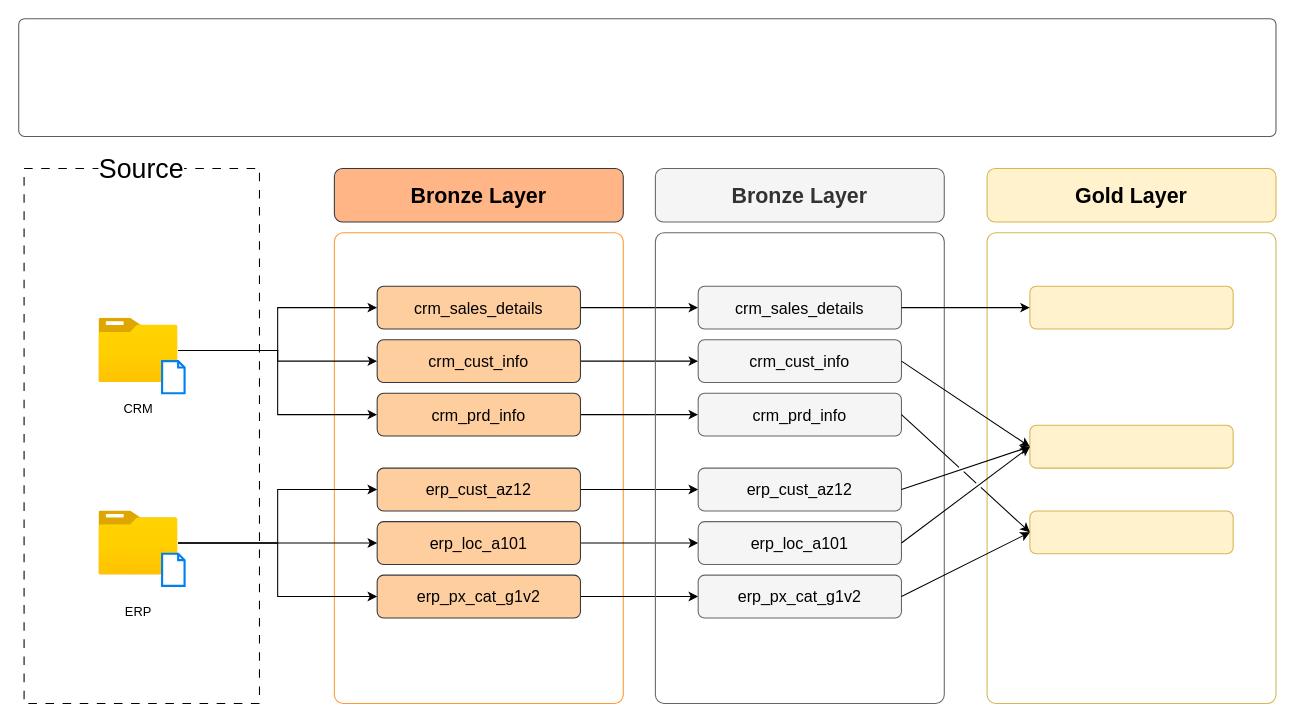
The diagram is 1295 pixels wide and 722 high, and some of its shapes have lost their labels. Here are the shapes that lost their labels. From the top down, the centre of each, then its label:
At point 647,77: "Dataflow how to data are processed at different stages.".
At point 1131,307: "fact_sales".
At point 1131,446: "dim_customers".
At point 1131,532: "dim_products".
